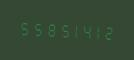eight: (41, 18, 52, 39)
five: (17, 17, 28, 37), (29, 18, 40, 38), (53, 19, 64, 39)
four: (77, 20, 88, 41)
one: (65, 19, 76, 40), (89, 21, 100, 41)
two: (101, 21, 112, 42)
